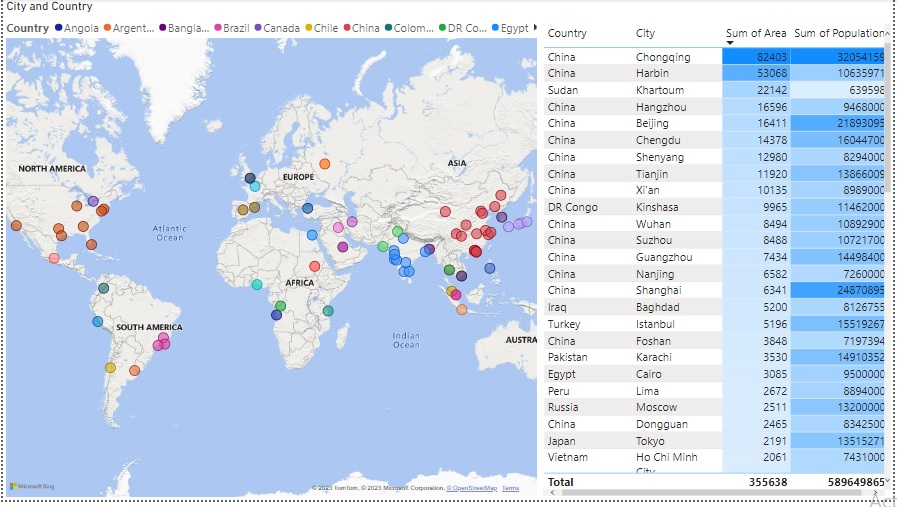

What the dashboard file says about the page in this screenshot:
{"tool":"powerbi","page":{"name":"Page 1","canvas":[1280,720],"ordinal":0},"visuals":[{"type":"tableEx","fields":{"Values":["Table.Country","Table.City","Sum(Table.Area)","Sum(Table.Population)"]},"box":[771.7,31.6,508.7,686.9],"z":0},{"type":"map","fields":{"Series":["Table.Country"],"Category":["Table.City"]},"box":[0,0,771.7,720],"z":1000}]}

Visuals, with their boxes in screenshot pixels (x1, y1, x2, y2), scaled from the page's 1280x720 canvas onto the 897x507 screenshot:
tableEx - Table.Country x Table.City: (541,22,896,506)
map - Table.Country x Table.City: (0,0,541,506)
